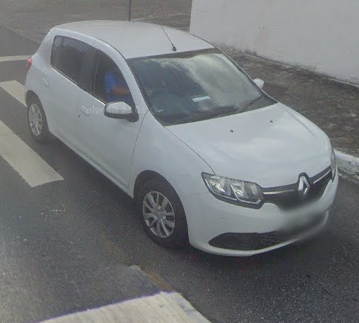car: (22, 7, 340, 261)
